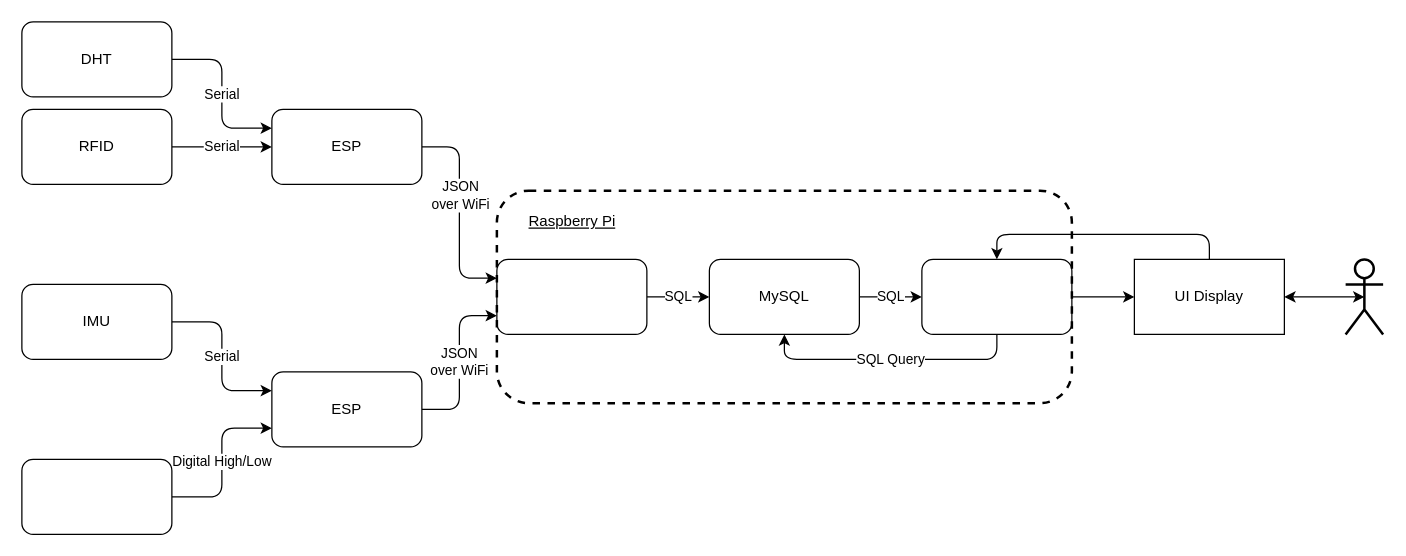
Image size: 1406x556. Some labels were removed from this diagram. Each missing label, with the centre of its shape:
Node-Red (Data Gathering Flow): point 571,296
Node-Red (Display Flow): point 996,296
Optosensor: point 96,496
User: point 1364,296
